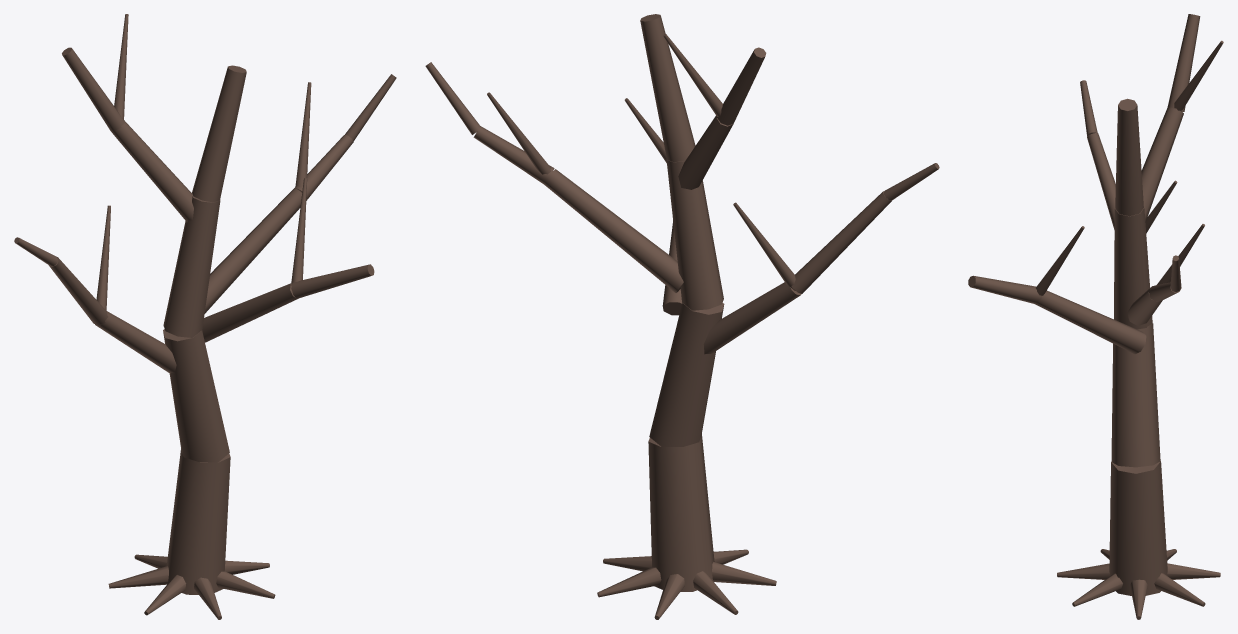
The model's file is dead-tree.glb.
3 views of the same model, side by side, from view 1: azimuth 30°, elevation 25°; view 2: azimuth 150°, elevation 25°; view 3: azimuth 270°, elevation 25° (orthographic). The views are drawn at different scales.
Visible parts, largest first — view 1: dead-tree; view 2: dead-tree; view 3: dead-tree.
Boxes of the visible parts, bbox=[...] form: dead-tree: bbox=[14, 14, 396, 619]; dead-tree: bbox=[425, 14, 939, 619]; dead-tree: bbox=[968, 14, 1223, 619].
Bounding box in the file's own units: 5.2 × 6.34 × 2.76.
